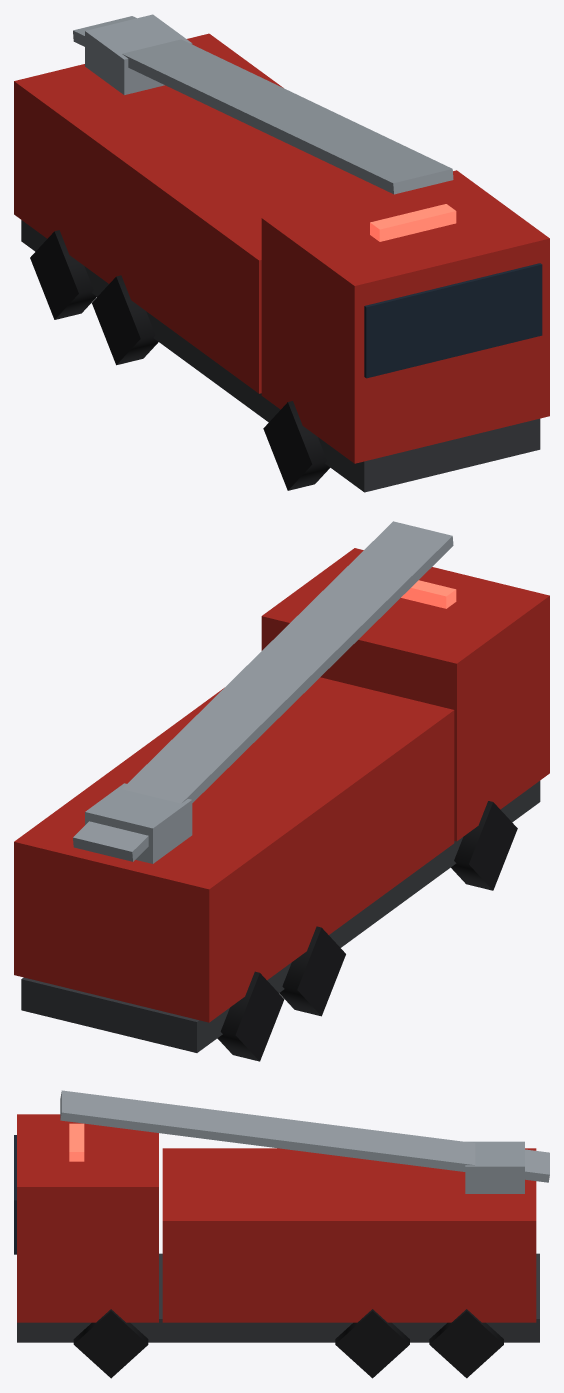
The model's file is veh_ground_fire_truck_a07_lod2.glb.
The picture shows the model from 3 angles, top to bottom: view 1: azimuth 30°, elevation 25°; view 2: azimuth 150°, elevation 25°; view 3: azimuth 270°, elevation 25°; orthographic projection. The views are drawn at different scales.
Parts seen in each view (by area): view 1: body, ladder, wheel_0, wheel_2, wheel_4; view 2: body, ladder, wheel_0, wheel_2, wheel_4; view 3: body, ladder, wheel_5, wheel_1, wheel_3.
Part boxes in pixels (x1=…): body: x1=14, y1=33, x2=549, y2=492; ladder: x1=73, y1=14, x2=453, y2=194; wheel_0: x1=30, y1=230, x2=96, y2=319; wheel_2: x1=92, y1=275, x2=158, y2=365; wheel_4: x1=263, y1=401, x2=330, y2=490; body: x1=14, y1=548, x2=549, y2=1052; ladder: x1=73, y1=521, x2=453, y2=863; wheel_0: x1=217, y1=971, x2=284, y2=1061; wheel_2: x1=279, y1=926, x2=345, y2=1016; wheel_4: x1=451, y1=801, x2=517, y2=890; body: x1=14, y1=1114, x2=539, y2=1342; ladder: x1=60, y1=1090, x2=549, y2=1193; wheel_5: x1=73, y1=1309, x2=148, y2=1378; wheel_1: x1=429, y1=1309, x2=503, y2=1378; wheel_3: x1=335, y1=1309, x2=409, y2=1378.
Bounding box in the file's own units: 2.42 × 3.53 × 7.17.
